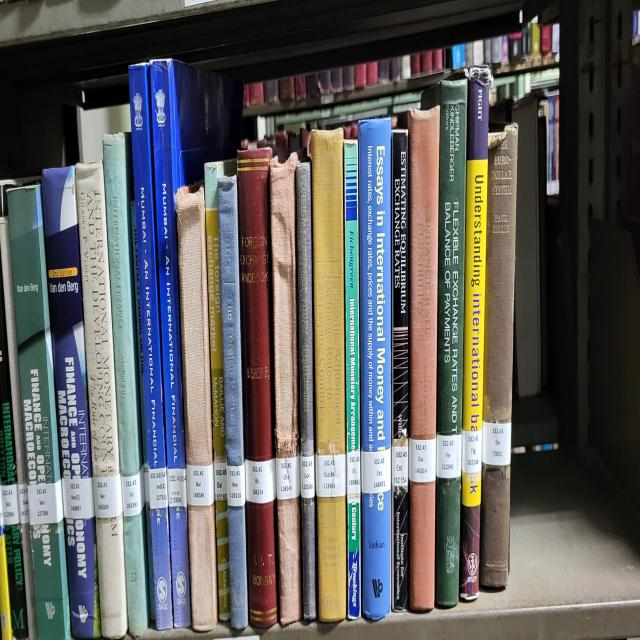Book: (150, 60, 242, 628), (9, 187, 70, 639), (42, 165, 100, 639), (75, 162, 128, 639), (129, 65, 172, 630), (422, 78, 468, 606), (102, 133, 149, 636), (238, 149, 278, 628), (176, 187, 218, 630), (480, 124, 518, 587), (312, 130, 346, 622), (359, 119, 391, 620), (460, 68, 490, 601), (409, 106, 440, 611), (270, 154, 301, 625), (205, 160, 236, 620), (218, 176, 248, 628), (0, 268, 29, 639), (296, 162, 316, 620), (391, 130, 409, 611), (344, 141, 361, 620)
Label: (28, 479, 64, 525), (245, 457, 276, 503), (62, 476, 95, 519), (92, 473, 122, 519), (361, 449, 391, 495), (315, 455, 346, 498), (482, 422, 511, 465), (186, 463, 214, 506), (409, 438, 436, 482), (121, 468, 145, 517), (436, 433, 461, 479), (276, 455, 300, 501), (461, 430, 482, 473), (226, 463, 246, 506), (391, 441, 409, 487), (149, 468, 168, 509), (168, 468, 186, 509), (300, 455, 315, 498), (346, 449, 360, 495), (214, 460, 228, 501), (18, 484, 30, 525), (144, 463, 150, 503)
